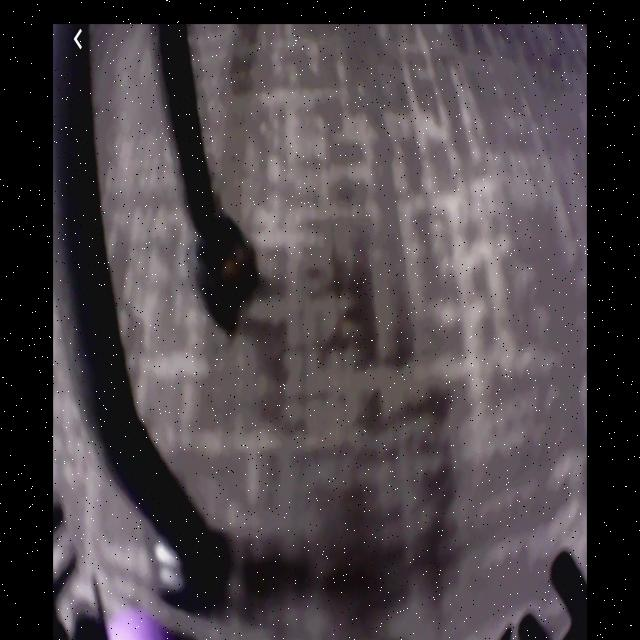ball: (106, 607, 166, 640)
